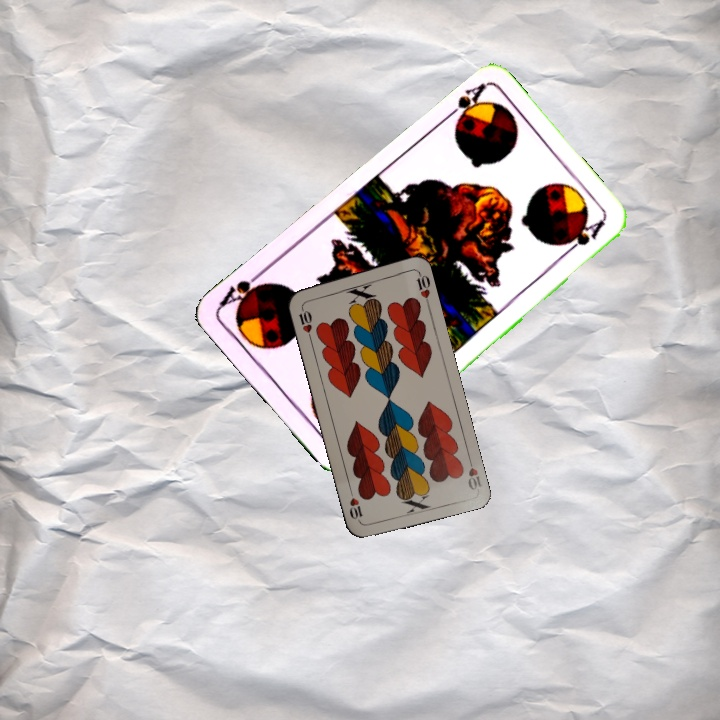H10: (464, 452, 484, 493), (295, 301, 315, 341)
SA: (438, 79, 488, 124)
